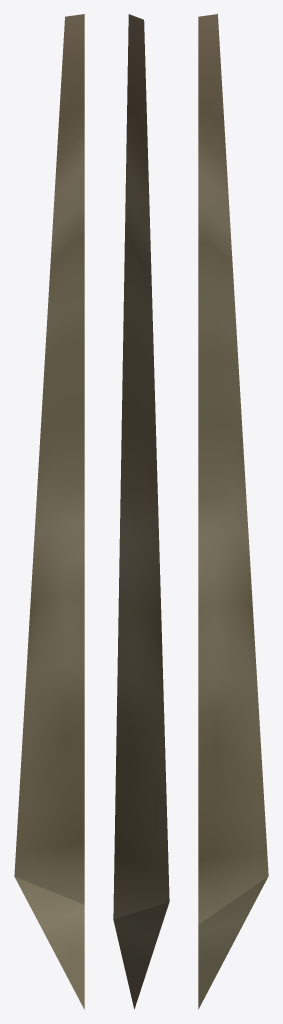
The picture shows the model from 3 angles, left to right: view 1: azimuth 90°, elevation 25°; view 2: azimuth 210°, elevation 25°; view 3: azimuth 270°, elevation 25°; orthographic projection.
Bounding box in the file's own units: 0.00752 × 0.3418 × 0.0219.
Materials: 1 (1 with a texture image).
